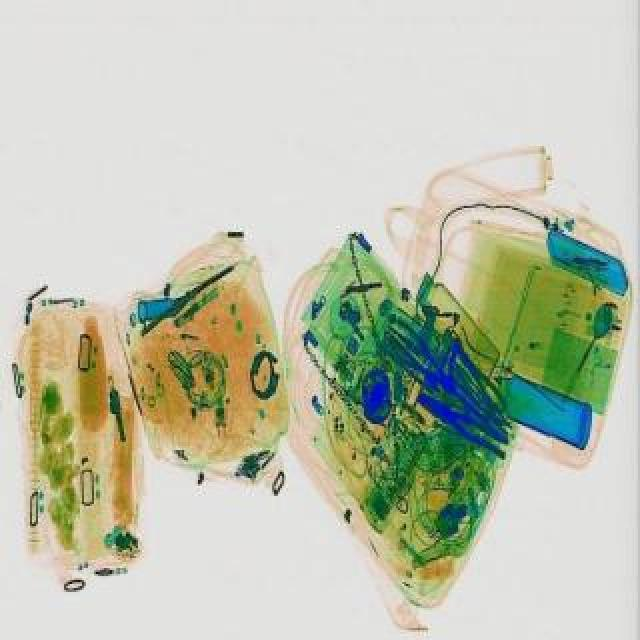wrench: (414, 388, 520, 458), (382, 318, 468, 398), (444, 334, 512, 412)
